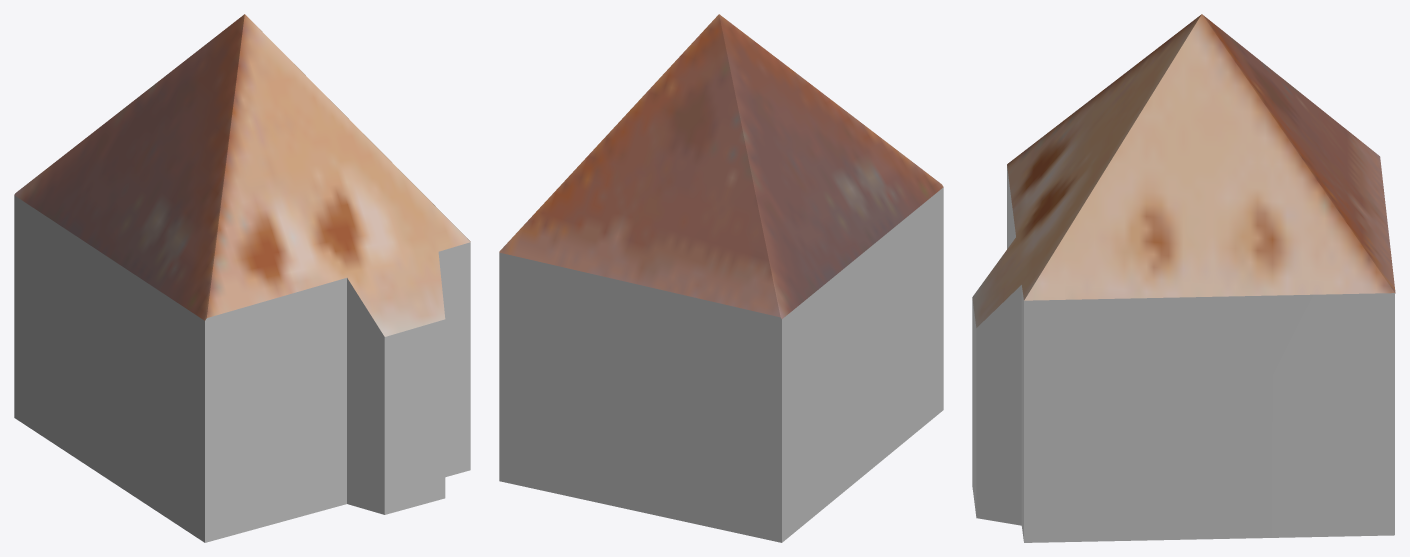
The model's file is DEBW_0010007TxeV.gltf.
3 renders of one model, left to right at view 1: azimuth 30°, elevation 25°; view 2: azimuth 150°, elevation 25°; view 3: azimuth 270°, elevation 25°, orthographic. The views are drawn at different scales.
Parts seen in each view (by area): view 1: Z_UP; view 2: Z_UP; view 3: Z_UP.
Boxes of the visible parts, bbox=[...] form: Z_UP: bbox=[14, 14, 470, 542]; Z_UP: bbox=[499, 14, 943, 542]; Z_UP: bbox=[972, 14, 1395, 542].
Bounding box in the file's own units: 9.52 × 13.53 × 11.4.
Materials: 2 (1 with a texture image).
